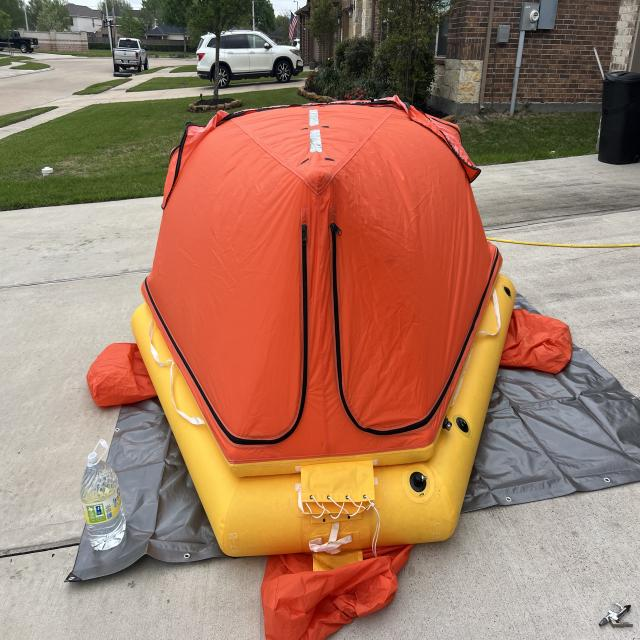Multi-person_life_raft: (85, 95, 572, 639)
